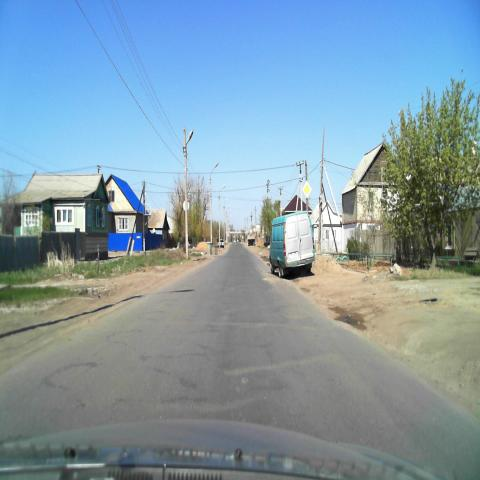2_1: (301, 179, 312, 200)
